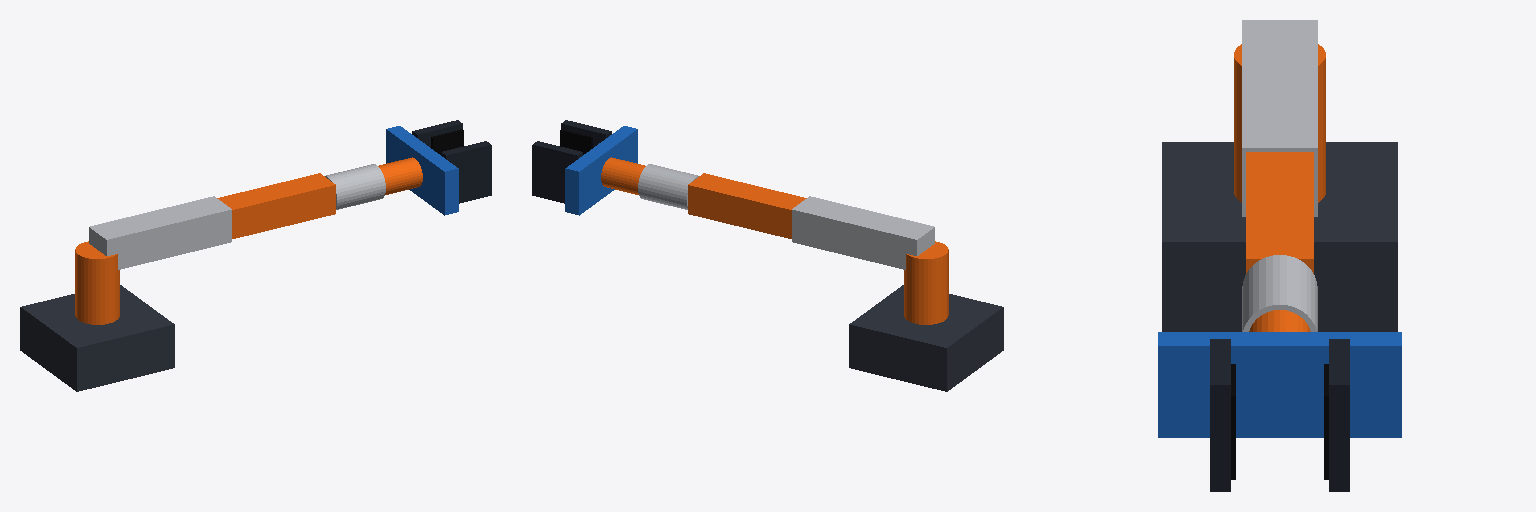
The robot description file, URDF, robot "simple_six_dof_arm":
<robot name="simple_six_dof_arm">
  <material name="graphite">
    <color rgba="0.23 0.25 0.29 1.0" />
  </material>
  <material name="silver">
    <color rgba="0.75 0.76 0.78 1.0" />
  </material>
  <material name="signal_orange">
    <color rgba="0.95 0.45 0.12 1.0" />
  </material>
  <material name="tool_blue">
    <color rgba="0.17 0.45 0.78 1.0" />
  </material>
  <material name="gripper_metal">
    <color rgba="0.16 0.18 0.22 1.0" />
  </material>
  <material name="gripper_pad">
    <color rgba="0.08 0.08 0.09 1.0" />
  </material>

  <link name="base_link">
    <visual>
      <origin xyz="0 0 0.06" rpy="0 0 0" />
      <geometry>
        <box size="0.28 0.28 0.12" />
      </geometry>
      <material name="graphite" />
    </visual>
    <collision>
      <origin xyz="0 0 0.06" rpy="0 0 0" />
      <geometry>
        <box size="0.28 0.28 0.12" />
      </geometry>
    </collision>
    <inertial>
      <origin xyz="0 0 0.06" rpy="0 0 0" />
      <mass value="8.0" />
      <inertia ixx="0.08" ixy="0.0" ixz="0.0" iyy="0.08" iyz="0.0" izz="0.08" />
    </inertial>
  </link>

  <link name="link_1">
    <visual>
      <origin xyz="0 0 0.09" rpy="0 0 0" />
      <geometry>
        <cylinder radius="0.055" length="0.18" />
      </geometry>
      <material name="signal_orange" />
    </visual>
    <collision>
      <origin xyz="0 0 0.09" rpy="0 0 0" />
      <geometry>
        <cylinder radius="0.055" length="0.18" />
      </geometry>
    </collision>
    <inertial>
      <origin xyz="0 0 0.09" rpy="0 0 0" />
      <mass value="3.0" />
      <inertia ixx="0.02" ixy="0.0" ixz="0.0" iyy="0.02" iyz="0.0" izz="0.01" />
    </inertial>
  </link>

  <joint name="joint_1" type="revolute">
    <parent link="base_link" />
    <child link="link_1" />
    <origin xyz="0 0 0.12" rpy="0 0 0" />
    <axis xyz="0 0 1" />
    <limit lower="-3.1416" upper="3.1416" effort="80.0" velocity="1.5" />
  </joint>

  <link name="link_2">
    <visual>
      <origin xyz="0.18 0 0" rpy="0 0 0" />
      <geometry>
        <box size="0.36 0.09 0.09" />
      </geometry>
      <material name="silver" />
    </visual>
    <collision>
      <origin xyz="0.18 0 0" rpy="0 0 0" />
      <geometry>
        <box size="0.36 0.09 0.09" />
      </geometry>
    </collision>
    <inertial>
      <origin xyz="0.18 0 0" rpy="0 0 0" />
      <mass value="4.0" />
      <inertia ixx="0.02" ixy="0.0" ixz="0.0" iyy="0.12" iyz="0.0" izz="0.12" />
    </inertial>
  </link>

  <joint name="joint_2" type="revolute">
    <parent link="link_1" />
    <child link="link_2" />
    <origin xyz="0 0 0.18" rpy="0 0 0" />
    <axis xyz="0 1 0" />
    <limit lower="-2.3562" upper="2.3562" effort="80.0" velocity="1.5" />
  </joint>

  <link name="link_3">
    <visual>
      <origin xyz="0.15 0 0" rpy="0 0 0" />
      <geometry>
        <box size="0.30 0.08 0.08" />
      </geometry>
      <material name="signal_orange" />
    </visual>
    <collision>
      <origin xyz="0.15 0 0" rpy="0 0 0" />
      <geometry>
        <box size="0.30 0.08 0.08" />
      </geometry>
    </collision>
    <inertial>
      <origin xyz="0.15 0 0" rpy="0 0 0" />
      <mass value="3.0" />
      <inertia ixx="0.015" ixy="0.0" ixz="0.0" iyy="0.08" iyz="0.0" izz="0.08" />
    </inertial>
  </link>

  <joint name="joint_3" type="revolute">
    <parent link="link_2" />
    <child link="link_3" />
    <origin xyz="0.36 0 0" rpy="0 0 0" />
    <axis xyz="0 1 0" />
    <limit lower="-2.7925" upper="2.7925" effort="60.0" velocity="1.8" />
  </joint>

  <link name="link_4">
    <visual>
      <origin xyz="0.07 0 0" rpy="0 1.5708 0" />
      <geometry>
        <cylinder radius="0.045" length="0.14" />
      </geometry>
      <material name="silver" />
    </visual>
    <collision>
      <origin xyz="0.07 0 0" rpy="0 1.5708 0" />
      <geometry>
        <cylinder radius="0.045" length="0.14" />
      </geometry>
    </collision>
    <inertial>
      <origin xyz="0.07 0 0" rpy="0 1.5708 0" />
      <mass value="1.5" />
      <inertia ixx="0.003" ixy="0.0" ixz="0.0" iyy="0.01" iyz="0.0" izz="0.01" />
    </inertial>
  </link>

  <joint name="joint_4" type="revolute">
    <parent link="link_3" />
    <child link="link_4" />
    <origin xyz="0.30 0 0" rpy="0 0 0" />
    <axis xyz="1 0 0" />
    <limit lower="-3.1416" upper="3.1416" effort="40.0" velocity="2.0" />
  </joint>

  <link name="link_5">
    <visual>
      <origin xyz="0.06 0 0" rpy="0 1.5708 0" />
      <geometry>
        <cylinder radius="0.038" length="0.12" />
      </geometry>
      <material name="signal_orange" />
    </visual>
    <collision>
      <origin xyz="0.06 0 0" rpy="0 1.5708 0" />
      <geometry>
        <cylinder radius="0.038" length="0.12" />
      </geometry>
    </collision>
    <inertial>
      <origin xyz="0.06 0 0" rpy="0 1.5708 0" />
      <mass value="1.0" />
      <inertia ixx="0.002" ixy="0.0" ixz="0.0" iyy="0.006" iyz="0.0" izz="0.006" />
    </inertial>
  </link>

  <joint name="joint_5" type="revolute">
    <parent link="link_4" />
    <child link="link_5" />
    <origin xyz="0.14 0 0" rpy="0 0 0" />
    <axis xyz="0 1 0" />
    <limit lower="-2.3562" upper="2.3562" effort="30.0" velocity="2.0" />
  </joint>

  <link name="link_6">

    <visual>
      <origin xyz="0.0125 0 0" rpy="0 1.5708 0" />
      <geometry>
        <cylinder radius="0.032" length="0.025" />
      </geometry>
      <material name="silver" />
    </visual>
    <collision>
      <origin xyz="0.0125 0 0" rpy="0 1.5708 0" />
      <geometry>
        <cylinder radius="0.032" length="0.025" />
      </geometry>
    </collision>
    <inertial>
      <origin xyz="0.05 0 0" rpy="0 1.5708 0" />
      <mass value="0.8" />
      <inertia ixx="0.0015" ixy="0.0" ixz="0.0" iyy="0.004" iyz="0.0" izz="0.004" />
    </inertial>
  </link>

  <joint name="joint_6" type="revolute">
    <parent link="link_5" />
    <child link="link_6" />
    <origin xyz="0.12 0 0" rpy="0 0 0" />
    <axis xyz="1 0 0" />
    <limit lower="-3.1416" upper="3.1416" effort="20.0" velocity="2.5" />
  </joint>

  <link name="tool0">

    <visual name="gripper_palm">
      <origin xyz="-0.09 0 0" rpy="0 0 0" />
      <geometry>
        <box size="0.04 0.29 0.12" />
      </geometry>
      <material name="tool_blue" />
    </visual>
    <collision name="gripper_palm_collision">
      <origin xyz="-0.09 0 0" rpy="0 0 0" />
      <geometry>
        <box size="0.04 0.29 0.12" />
      </geometry>
    </collision>
    <inertial>
      <origin xyz="-0.04 0 0" rpy="0 0 0" />
      <mass value="0.7" />
      <inertia ixx="0.0015" ixy="0.0" ixz="0.0" iyy="0.0020" iyz="0.0" izz="0.0020" />
    </inertial>
  </link>

  <joint name="tool0_joint" type="fixed">
    <parent link="link_6" />
    <child link="tool0" />
    <origin xyz="0.10 0 0" rpy="0 0 0" />
  </joint>
<link name="gripper_left_link"><visual name="gripper_left_finger">
      <origin xyz="-0.005 0.071 0" rpy="0 0 0" />
      <geometry>
        <box size="0.13 0.025 0.14" />
      </geometry>
      <material name="gripper_metal" />
    </visual>
    <visual name="gripper_left_pad">
      <origin xyz="0.015 0.0555 0" rpy="0 0 0" />
      <geometry>
        <box size="0.09 0.006 0.11" />
      </geometry>
      <material name="gripper_pad" />
    </visual>
    <collision name="gripper_left_finger_collision">
      <origin xyz="-0.005 0.071 0" rpy="0 0 0" />
      <geometry>
        <box size="0.13 0.025 0.14" />
      </geometry>
    </collision>
    <collision name="gripper_left_pad_collision"><origin xyz="0.015 0.0555 0" rpy="0 0 0" /><geometry>
        <box size="0.09 0.006 0.11" />
      </geometry></collision></link><joint name="gripper_left_finger_joint" type="prismatic"><parent link="tool0" /><child link="gripper_left_link" /><origin xyz="0 0 0" rpy="0 0 0" /><axis xyz="0 1 0" /><limit lower="-0.0025" upper="0.06" effort="20" velocity="0.04" /></joint><link name="gripper_right_link"><visual name="gripper_right_finger">
      <origin xyz="-0.005 -0.071 0" rpy="0 0 0" />
      <geometry>
        <box size="0.13 0.025 0.14" />
      </geometry>
      <material name="gripper_metal" />
    </visual>
    <visual name="gripper_right_pad">
      <origin xyz="0.015 -0.0555 0" rpy="0 0 0" />
      <geometry>
        <box size="0.09 0.006 0.11" />
      </geometry>
      <material name="gripper_pad" />
    </visual>
    <collision name="gripper_right_finger_collision">
      <origin xyz="-0.005 -0.071 0" rpy="0 0 0" />
      <geometry>
        <box size="0.13 0.025 0.14" />
      </geometry>
    </collision>
    <collision name="gripper_right_pad_collision"><origin xyz="0.015 -0.0555 0" rpy="0 0 0" /><geometry>
        <box size="0.09 0.006 0.11" />
      </geometry></collision></link><joint name="gripper_right_finger_joint" type="prismatic"><parent link="tool0" /><child link="gripper_right_link" /><origin xyz="0 0 0" rpy="0 0 0" /><axis xyz="0 -1 0" /><limit lower="-0.0025" upper="0.06" effort="20" velocity="0.04" /></joint></robot>

--- What the picture shows (computed from the rendered views, not written in the file) ---
3 views of the same robot in one strip: view 1: azimuth 30°, elevation 25°; view 2: azimuth 150°, elevation 25°; view 3: azimuth 270°, elevation 25° (orthographic).
Robot: simple_six_dof_arm — 10 links, 9 joints (6 revolute, 2 prismatic, 1 fixed); root link base_link; default pose: all joints at 0.
Visible links, largest first — view 1: base_link, link_2, link_3, link_1, tool0, gripper_right_link, link_4, link_5, gripper_left_link; view 2: base_link, link_2, link_3, link_1, tool0, gripper_left_link, link_4, link_5, gripper_right_link; view 3: base_link, tool0, link_2, link_3, link_4, gripper_left_link, gripper_right_link, link_1, link_5.
Link boxes in pixels (<box>): base_link: <box>20,285,174,391</box>; link_2: <box>89,196,231,269</box>; link_3: <box>217,173,335,238</box>; link_1: <box>75,241,119,324</box>; tool0: <box>386,126,458,215</box>; gripper_right_link: <box>441,141,491,203</box>; link_4: <box>325,164,385,209</box>; link_5: <box>378,157,422,194</box>; gripper_left_link: <box>412,120,463,154</box>; base_link: <box>849,285,1003,391</box>; link_2: <box>792,196,934,269</box>; link_3: <box>688,173,806,238</box>; link_1: <box>904,241,948,324</box>; tool0: <box>565,126,637,215</box>; gripper_left_link: <box>532,141,582,203</box>; link_4: <box>638,164,698,209</box>; link_5: <box>601,157,645,194</box>; gripper_right_link: <box>560,120,611,154</box>; base_link: <box>1162,142,1397,331</box>; tool0: <box>1158,332,1401,437</box>; link_2: <box>1242,20,1317,216</box>; link_3: <box>1246,152,1313,273</box>; link_4: <box>1242,255,1317,331</box>; gripper_left_link: <box>1324,339,1349,491</box>; gripper_right_link: <box>1210,339,1235,491</box>; link_1: <box>1234,44,1325,202</box>; link_5: <box>1249,310,1310,331</box>.
Bounding box of the posed robot: 1.22 × 0.29 × 0.37 m (x, y, z).
Geometry: primitives only (box / cylinder / sphere), no mesh files.
